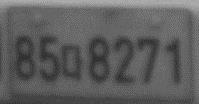1: (163, 36, 183, 85)
2: (111, 35, 137, 86)
5: (37, 35, 60, 83)
7: (135, 35, 159, 85)
8: (87, 35, 112, 82), (13, 34, 37, 81)
다: (60, 43, 83, 83)
